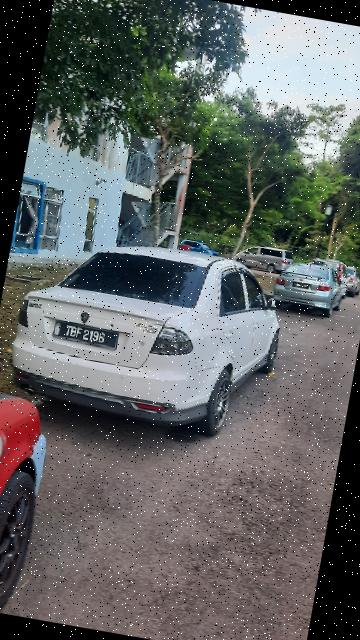License_Plate: (48, 319, 123, 355)
car: (1, 222, 293, 452)
